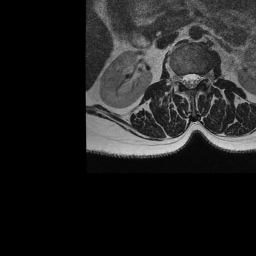CCS_normal: (187, 67, 193, 94)
LFS_stenosis: (199, 65, 205, 87)
LLS_normal: (193, 67, 200, 91)
RFS_normal: (175, 66, 181, 90)
RLS_normal: (181, 67, 187, 91)
